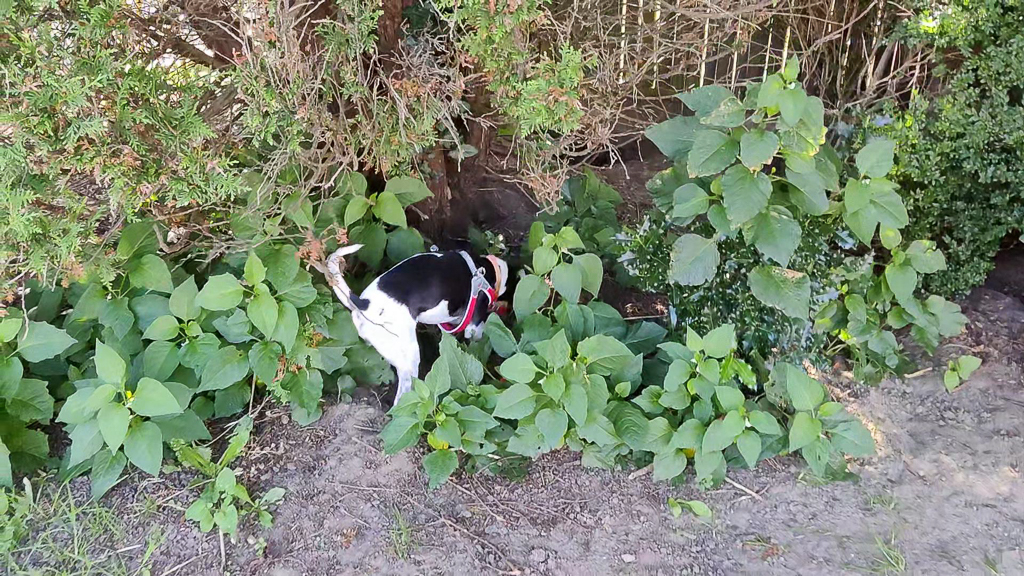Dog: (307, 221, 587, 432)
